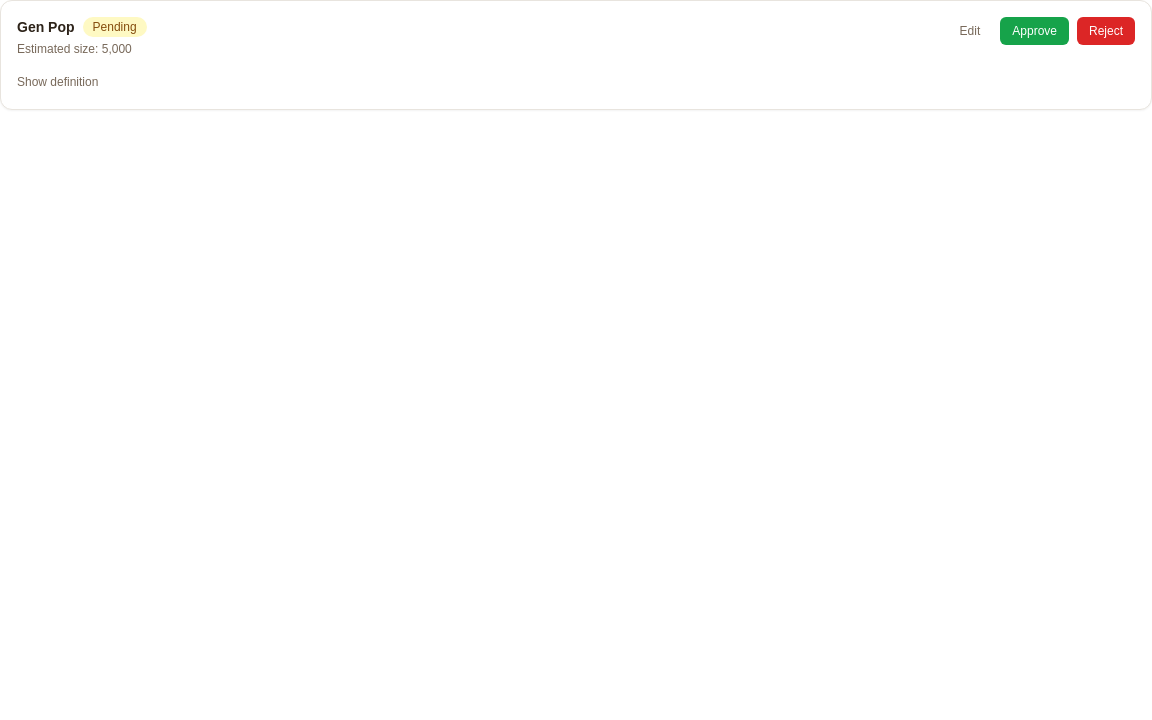
Test: SegmentCard › pending state › opens edit modal when Edit is clicked
Click the button "Edit": (970, 31) [948, 17, 992, 45]
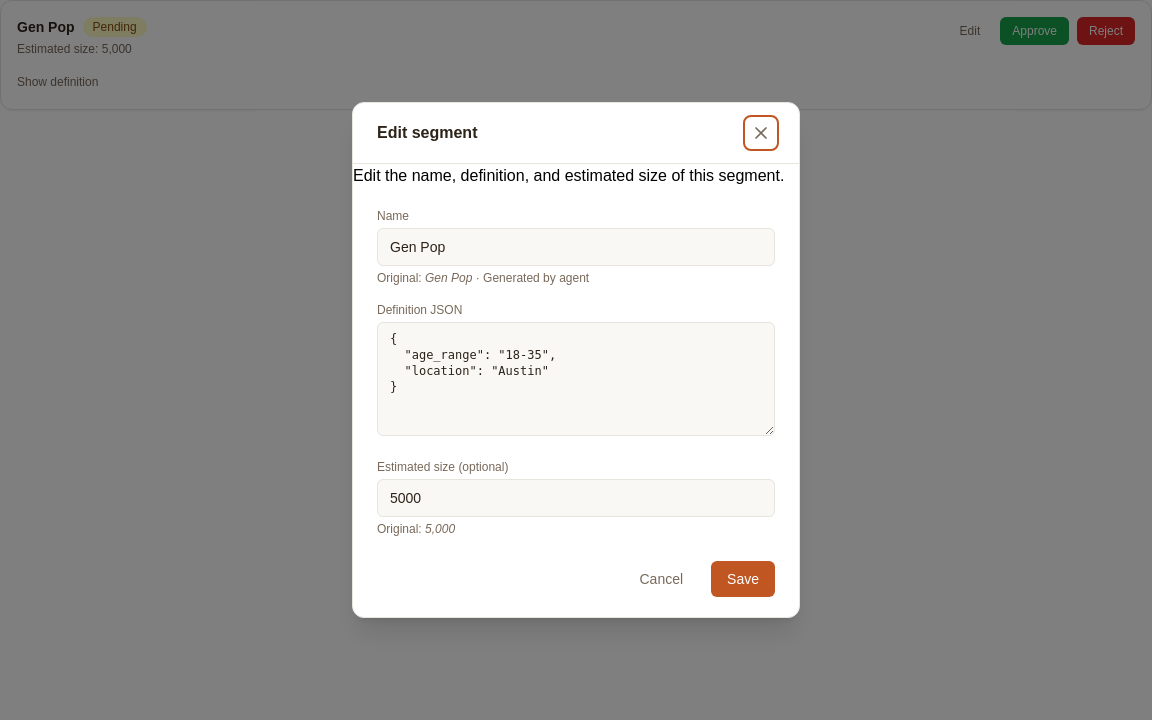
Expected: the dialog "Edit segment" is shown, [352, 102, 800, 618]
